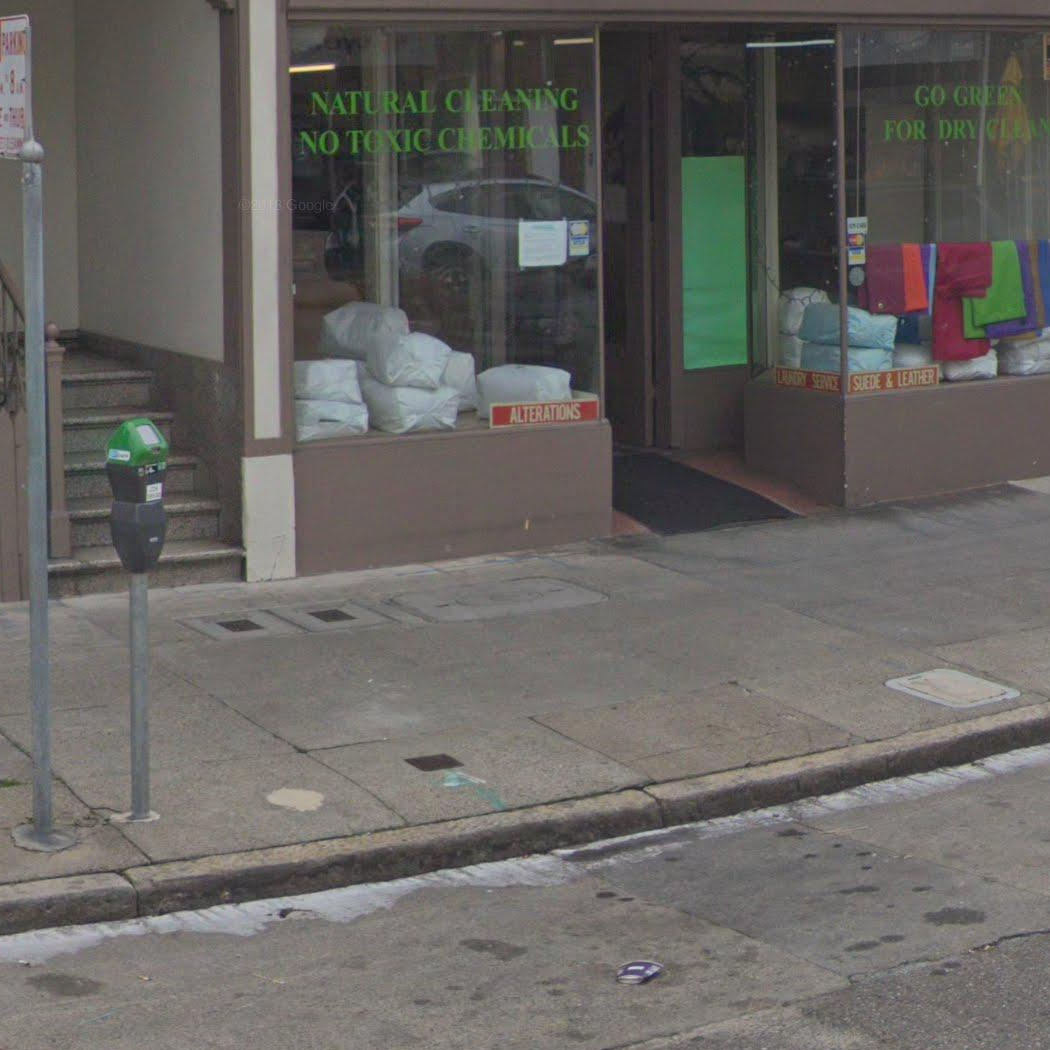No Parking: (0, 10, 33, 165)
